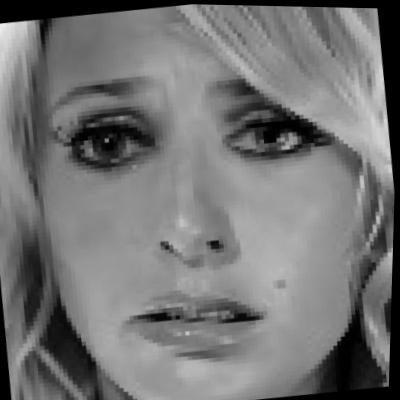sad: (0, 0, 397, 400)
